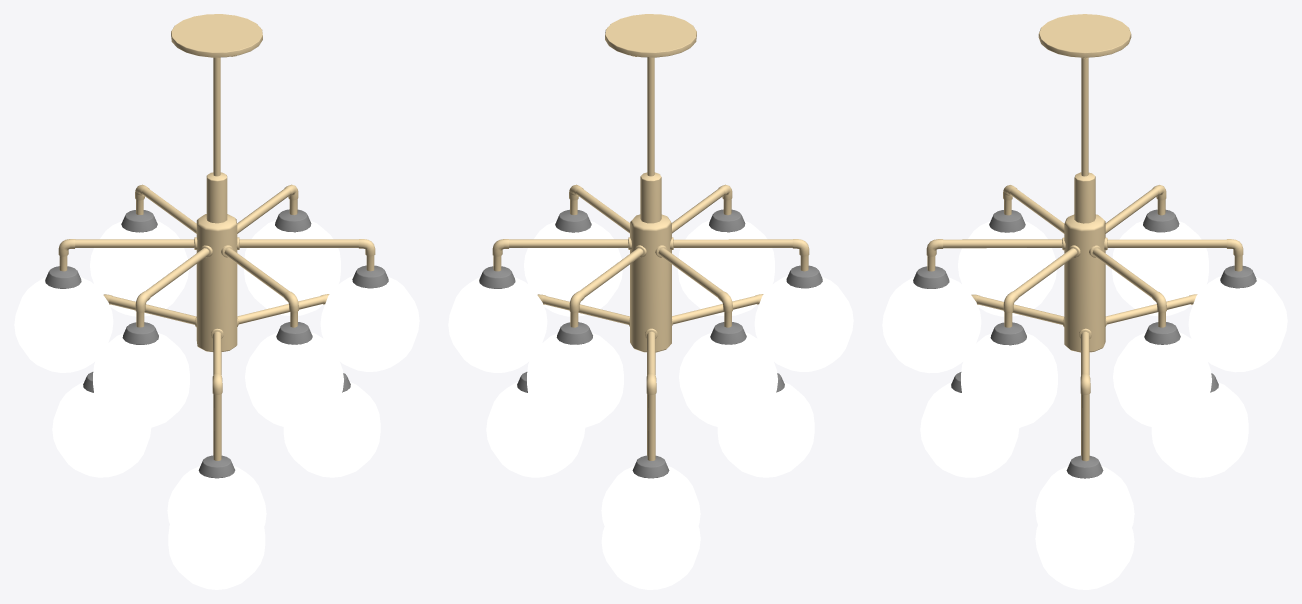
File: chandelier.glb
3 renders of one model, left to right at view 1: azimuth 30°, elevation 25°; view 2: azimuth 150°, elevation 25°; view 3: azimuth 270°, elevation 25°, orthographic.
Visible parts, largest first — view 1: Modern_Chandelier.1; view 2: Modern_Chandelier.1; view 3: Modern_Chandelier.1.
Part boxes in pixels (<box>): Modern_Chandelier.1: <box>14,14,419,589</box>; Modern_Chandelier.1: <box>448,14,853,589</box>; Modern_Chandelier.1: <box>882,14,1287,589</box>.
Size of the model in its own units: 0.4655 by 0.7753 by 0.5159.
1 material, 1 textured.
